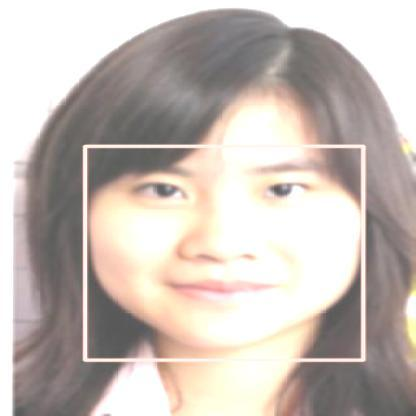without_mask: (85, 146, 363, 360)
